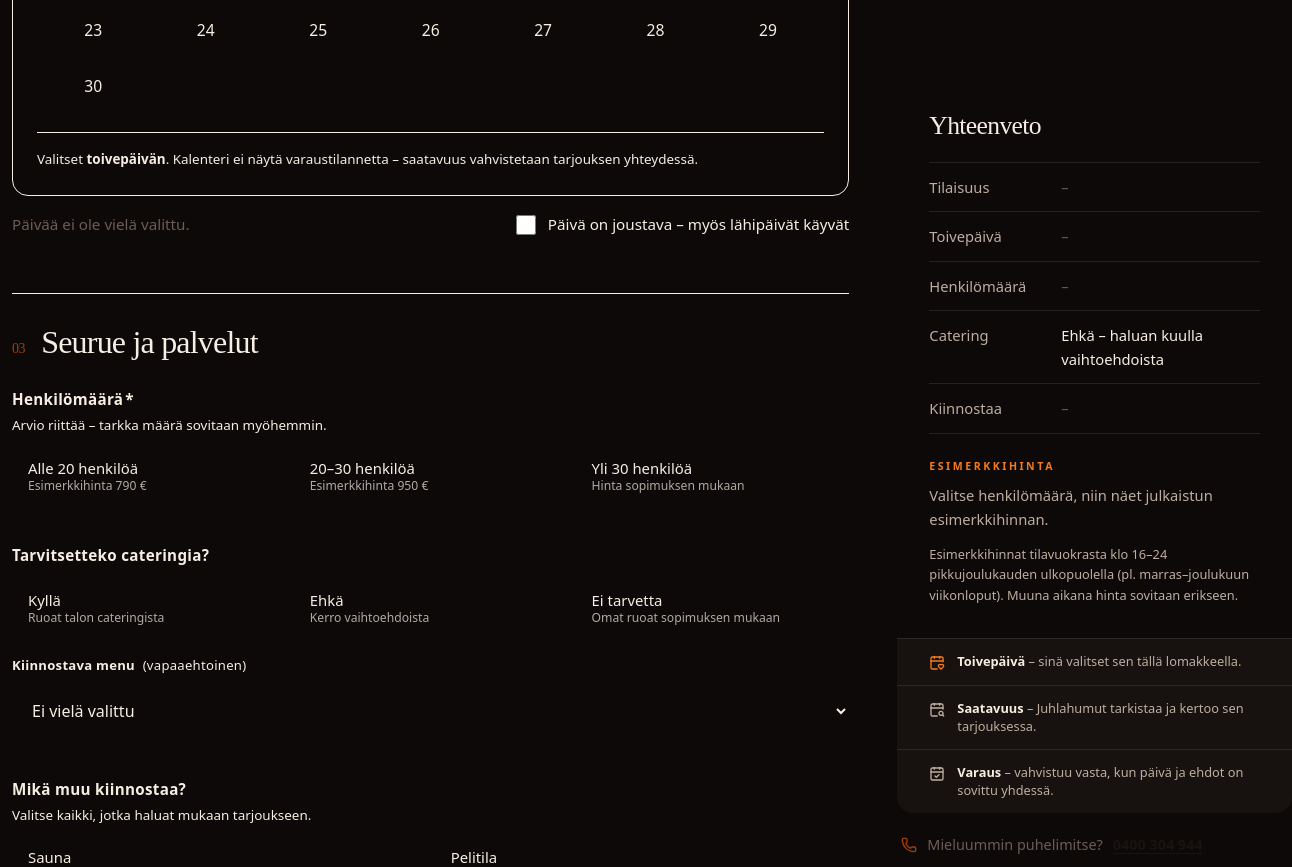
QuoteForm › shows the published example price for the chosen group size, never a total
(page scrolled)
Click the radio button labelled "Alle 20 henkilöä Esimerkkihinta 790 €": click(87, 476) [28,458,147,494]
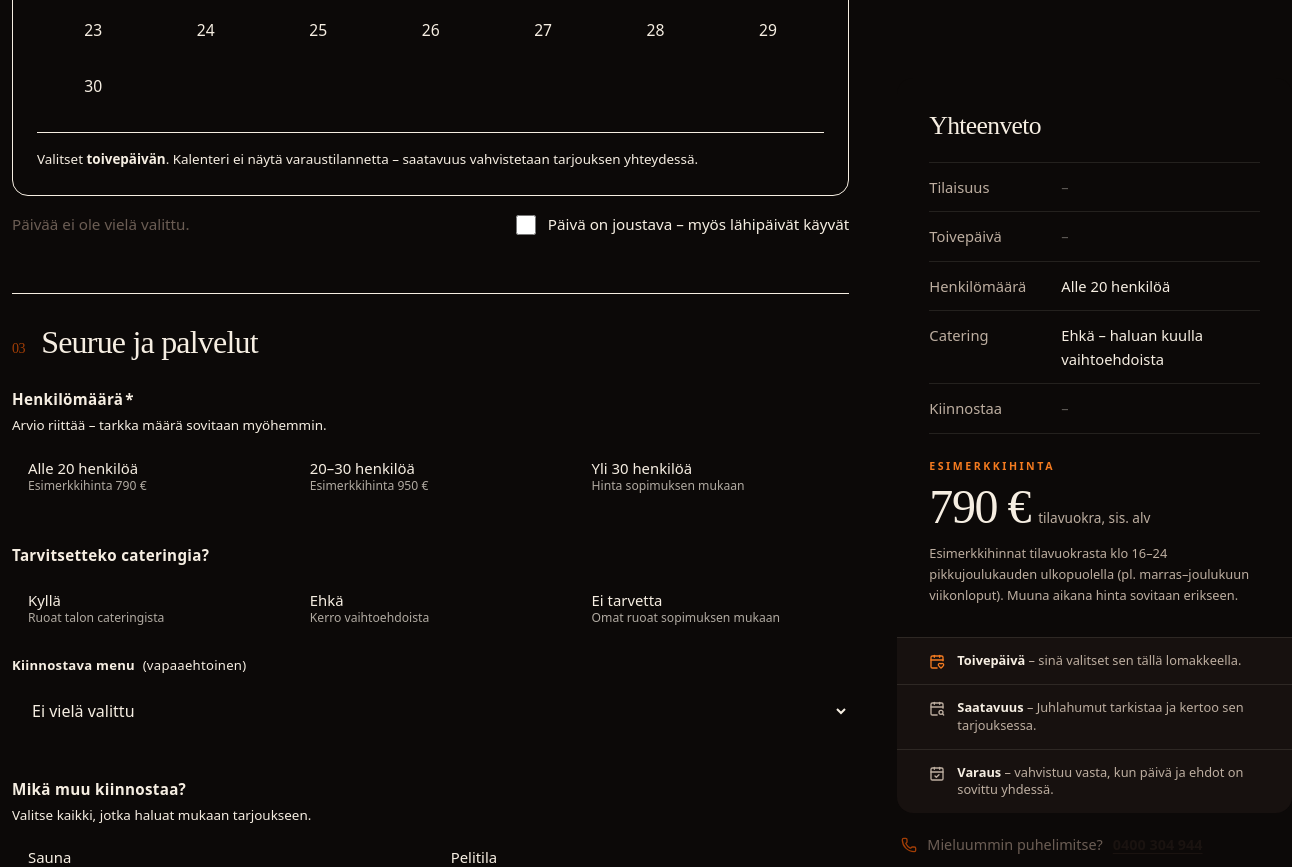
Expected: the text "Esimerkkihinnat tilavuokrasta" is shown, [929,544,1249,604]
Result: the text "790 €" is shown at [929,480,1030,533]
